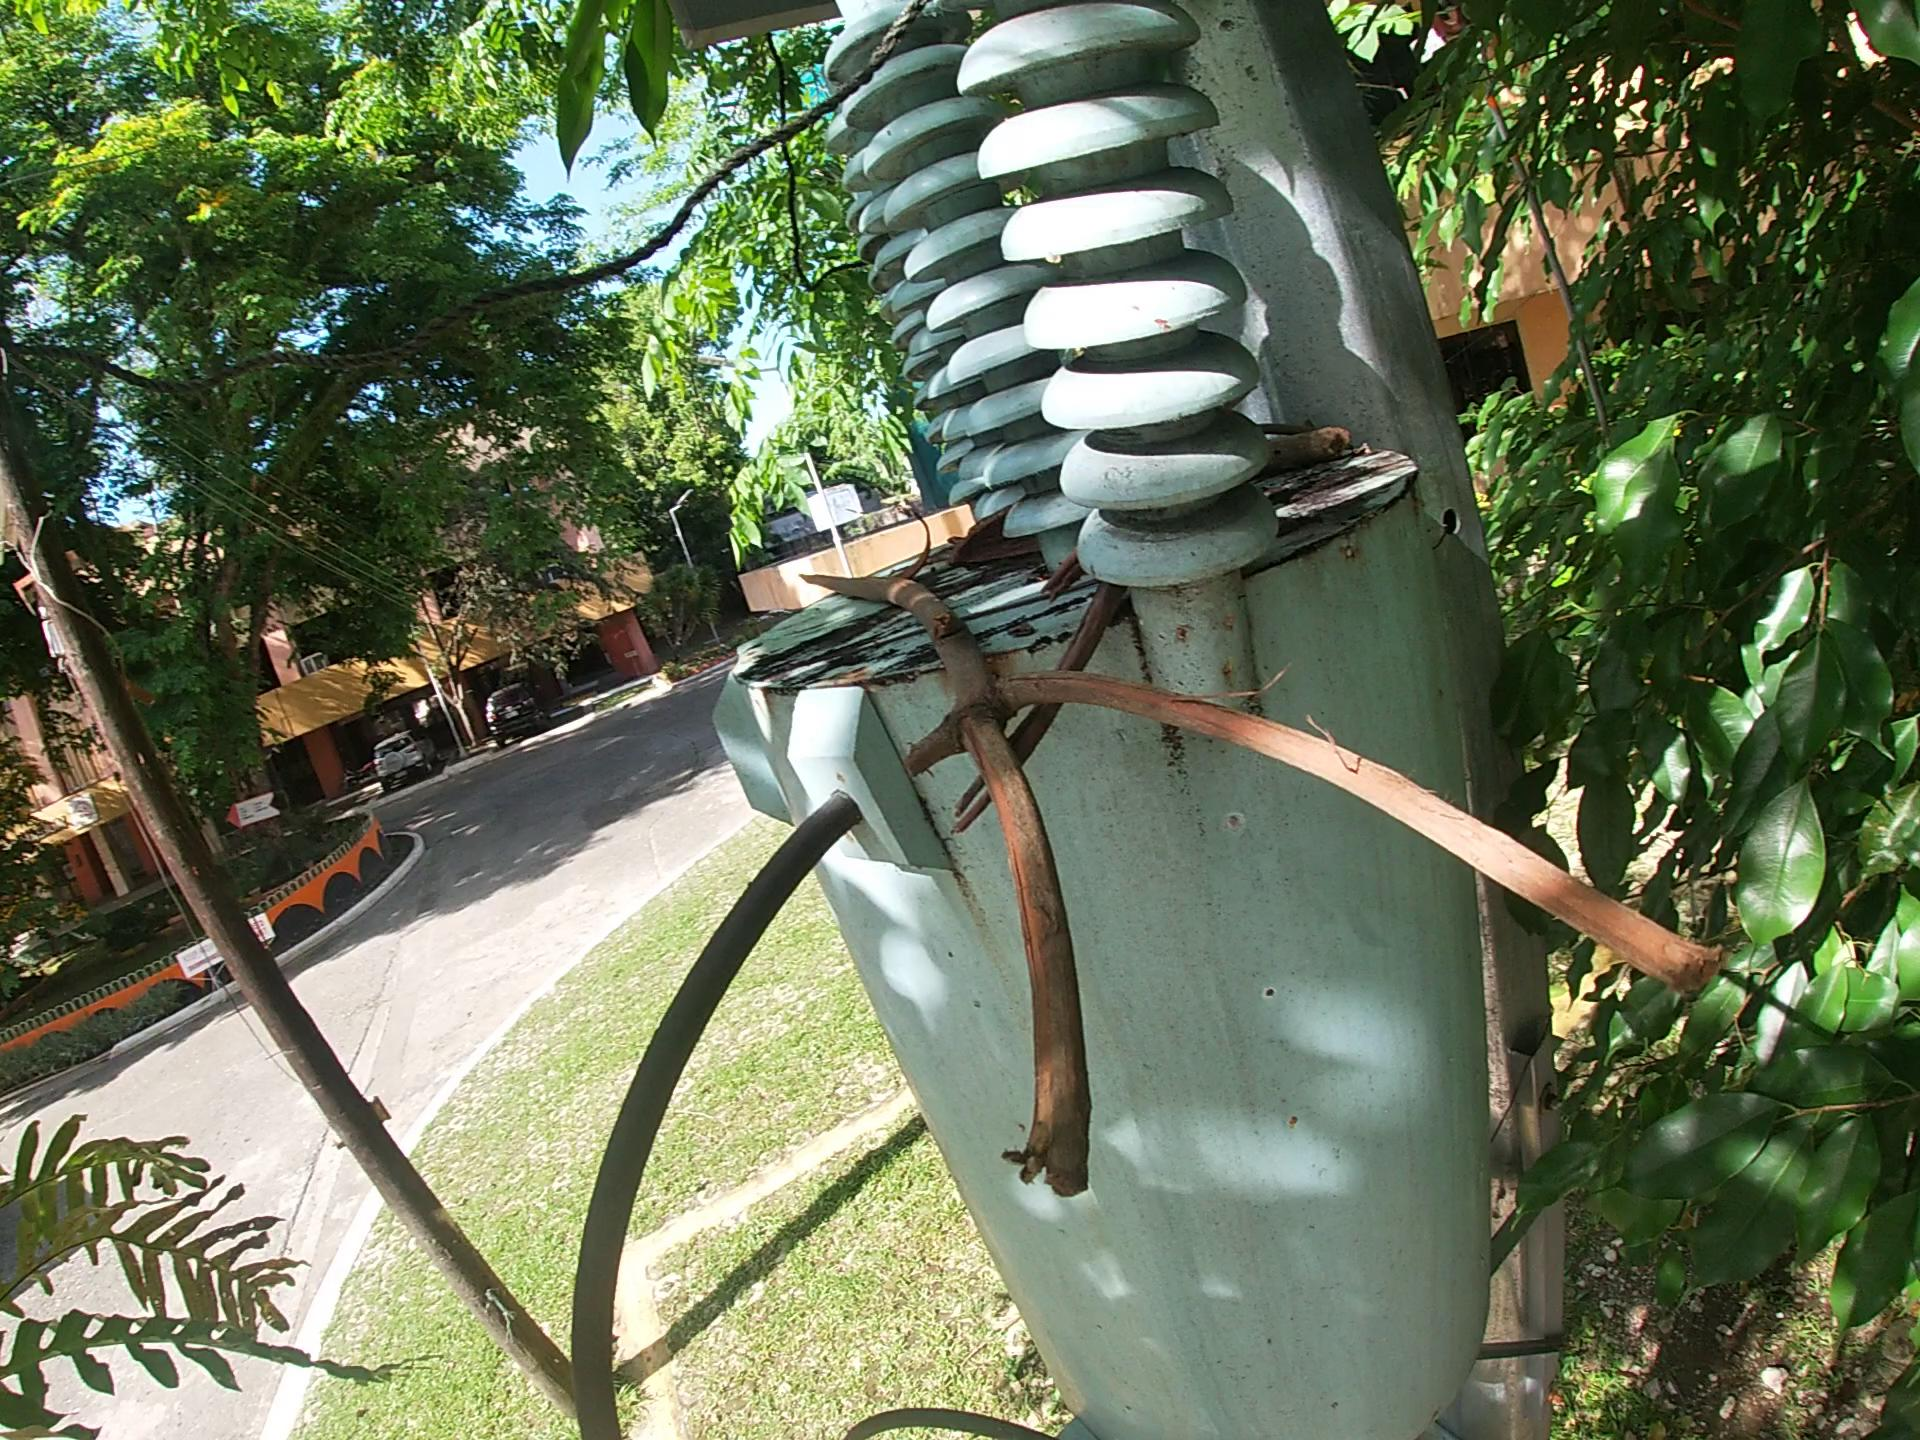mahogany fruit: (942, 504, 1045, 572), (892, 510, 936, 581)
tree branch: (794, 563, 1734, 1210), (943, 551, 1131, 847), (1255, 421, 1361, 479)
